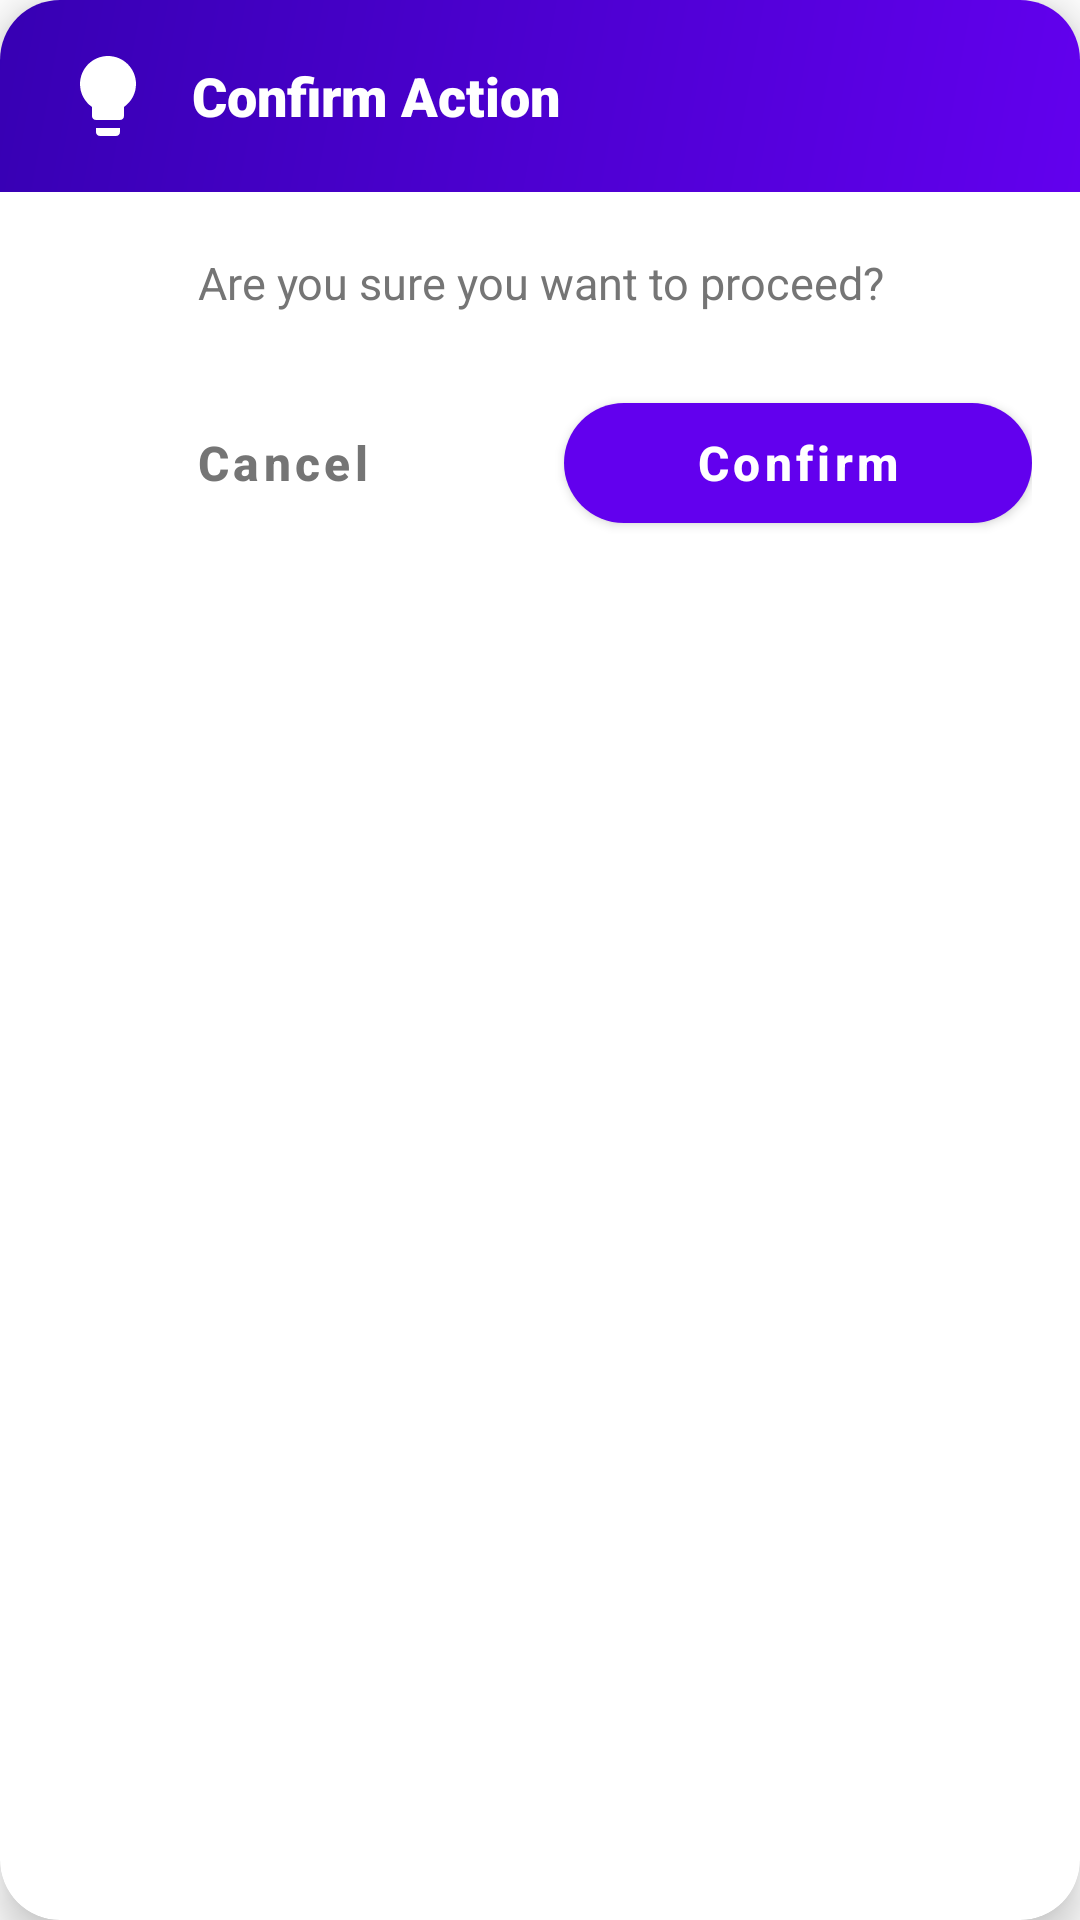

Icons on this 1080 × 1920 Android screen, each with the point to tap as point (x, y):
lightbulb hint: point (108, 96)
